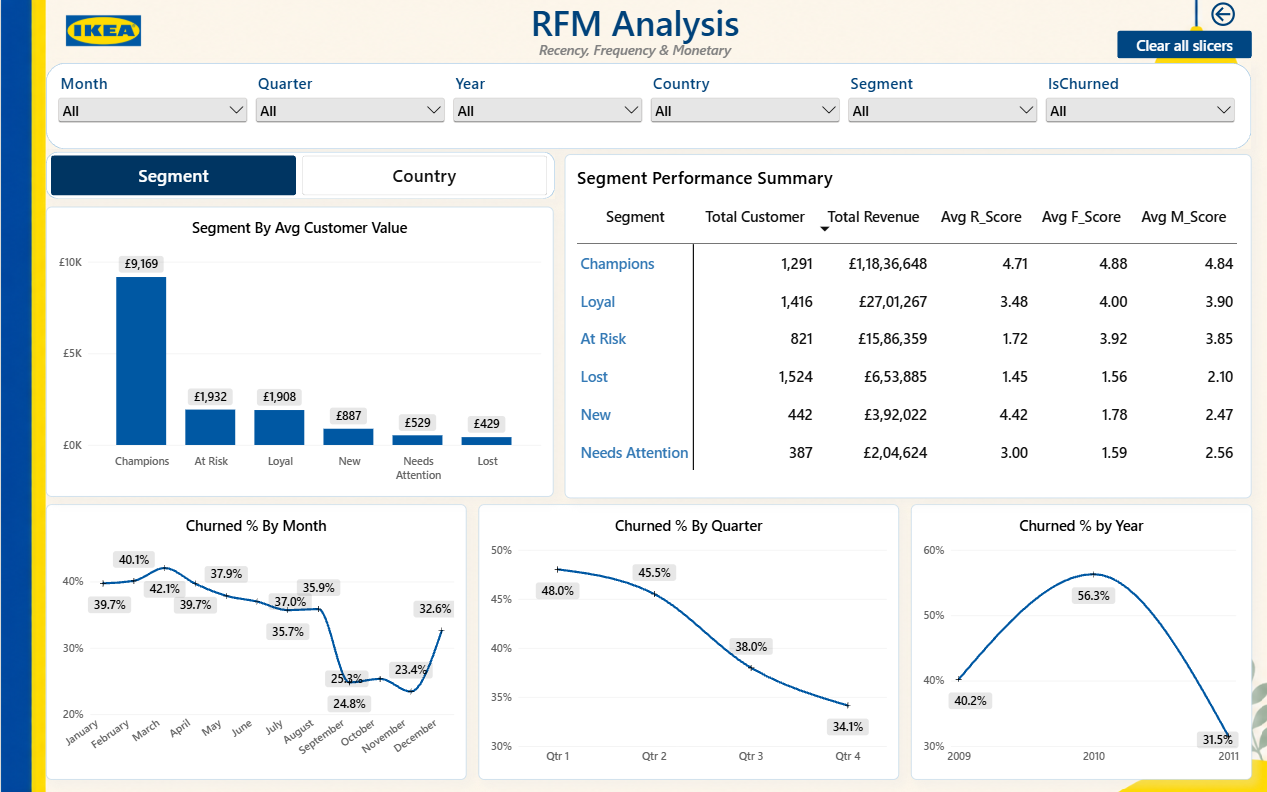

The dashboard page shown, as its layout file describes it:
{"tool":"powerbi","page":{"name":"RFM Analysis","canvas":[1750,1100],"ordinal":2},"visuals":[{"type":"shape","box":[61.9,90,1662.5,118.8],"z":0},{"type":"pivotTable","title":"Country Performance Summary","fields":{"Rows":["Sheet1.Country"],"Values":["Sheet1.Total Customer","Sheet1.Total Revenue","Avg(Sheet1.R_Score)","Avg(Sheet1.F_Score)","Avg(Sheet1.M_Score)"]},"box":[776.4,216.4,947,474],"z":0,"group":"g1"},{"type":"slicer","fields":{"Values":["Sheet1.InvoiceDate.Variation.Date Hierarchy.Month"]},"box":[74.4,101.7,270.4,96.1],"z":1000},{"type":"clusteredColumnChart","title":"Top 5 Country By Avg Customer Value","fields":{"Category":["Sheet1.Country"],"Y":["Sheet1.Avg Customer Value"]},"box":[61.7,287.8,700,400],"z":1000,"group":"g1"},{"type":"slicer","fields":{"Values":["Sheet1.InvoiceDate.Variation.Date Hierarchy.Quarter"]},"box":[346.8,101.7,270.4,96.1],"z":2000},{"type":"lineChart","title":"Churned % By Month","fields":{"Category":["Sheet1.InvoiceDate.Variation.Date Hierarchy.Month"],"Y":["Sheet1.Churned %"]},"box":[61.5,698,580,380],"z":3000},{"type":"slicer","fields":{"Values":["Sheet1.InvoiceDate.Variation.Date Hierarchy.Year"]},"box":[619.3,101.7,270.4,96.1],"z":4000},{"type":"lineChart","title":"Churned % By Quarter","fields":{"Category":["Sheet1.InvoiceDate.Variation.Date Hierarchy.Quarter"],"Y":["Sheet1.Churned %"]},"box":[659,698,580,380],"z":5000},{"type":"slicer","fields":{"Values":["Sheet1.Country"]},"box":[891.7,101.7,270.4,96.1],"z":6000},{"type":"lineChart","fields":{"Category":["Sheet1.InvoiceDate.Variation.Date Hierarchy.Year"],"Y":["Sheet1.Churned %"]},"box":[1256,698,470,380],"z":7000},{"type":"slicer","fields":{"Values":["Sheet1.Segment"]},"box":[1164.1,101.9,270.4,96.1],"z":8000},{"type":"shape","box":[61.5,212.5,702,65],"z":9000},{"type":"slicer","fields":{"Values":["Sheet1.IsChurned"]},"box":[1436.5,101.9,270.4,96.1],"z":10000},{"type":"bookmarkNavigator","box":[69.2,217.5,685,55],"z":11000},{"type":"image","box":[42,0,200,90],"z":12000},{"type":"textbox","box":[585,0,580,90],"z":13000},{"type":"textbox","box":[585,58.3,580,31.7],"z":14000},{"type":"actionButton","box":[1645.7,0,78.6,44.3],"z":15000},{"type":"actionButton","box":[1540,44.3,185.7,38.6],"z":16000},{"type":"group","id":"g1","title":"Country","box":[61.7,216.4,1661.7,474],"z":17000}]}

Visuals, with their boxes in screenshot pixels (x1, y1, x2, y2), scaled from the page's 1750x1100 canvas onto the 1267x792 screenshot:
shape: [left=45, top=65, right=1248, bottom=150]
"Country Performance Summary" pivotTable: [left=562, top=156, right=1248, bottom=497]
slicer - Sheet1.InvoiceDate.Variation.Date Hierarchy.Month: [left=54, top=73, right=250, bottom=142]
"Top 5 Country By Avg Customer Value" clusteredColumnChart: [left=45, top=207, right=551, bottom=495]
slicer - Sheet1.InvoiceDate.Variation.Date Hierarchy.Quarter: [left=251, top=73, right=447, bottom=142]
"Churned % By Month" lineChart: [left=45, top=503, right=464, bottom=776]
slicer - Sheet1.InvoiceDate.Variation.Date Hierarchy.Year: [left=448, top=73, right=644, bottom=142]
"Churned % By Quarter" lineChart: [left=477, top=503, right=897, bottom=776]
slicer - Sheet1.Country: [left=646, top=73, right=841, bottom=142]
lineChart - Sheet1.InvoiceDate.Variation.Date Hierarchy.Year x Sheet1.Churned %: [left=909, top=503, right=1250, bottom=776]
slicer - Sheet1.Segment: [left=843, top=73, right=1039, bottom=143]
shape: [left=45, top=153, right=553, bottom=200]
slicer - Sheet1.IsChurned: [left=1040, top=73, right=1236, bottom=143]
bookmarkNavigator: [left=50, top=157, right=546, bottom=196]
image: [left=30, top=0, right=175, bottom=65]
textbox: [left=424, top=0, right=843, bottom=65]
textbox: [left=424, top=42, right=843, bottom=65]
actionButton: [left=1191, top=0, right=1248, bottom=32]
actionButton: [left=1115, top=32, right=1249, bottom=60]
"Country" group: [left=45, top=156, right=1248, bottom=497]
